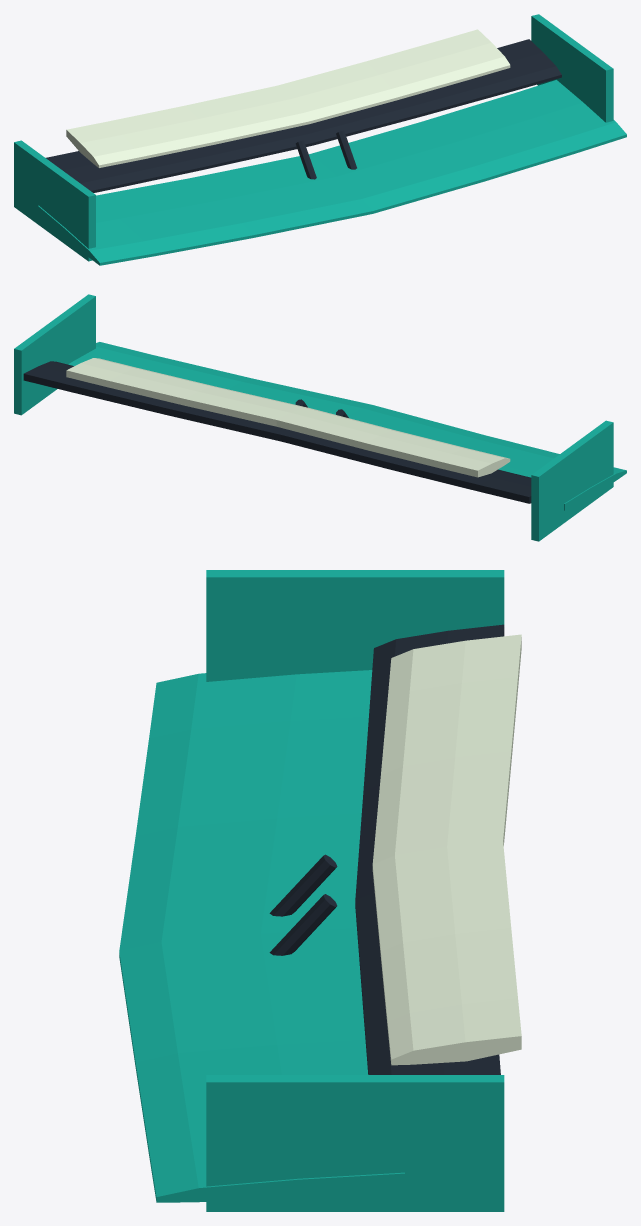
Rendered from cascade.glb.
The picture shows the model from 3 angles, top to bottom: view 1: azimuth 30°, elevation 25°; view 2: azimuth 150°, elevation 25°; view 3: azimuth 270°, elevation 25°; orthographic projection. The views are drawn at different scales.
Visible parts, largest first — view 1: FrontWing; view 2: FrontWing; view 3: FrontWing.
Part boxes in pixels (bbox=[...]): FrontWing: bbox=[14, 14, 626, 265]; FrontWing: bbox=[14, 294, 626, 541]; FrontWing: bbox=[119, 570, 521, 1211].
Bounding box in the file's own units: 1.96 × 0.232 × 0.648.
